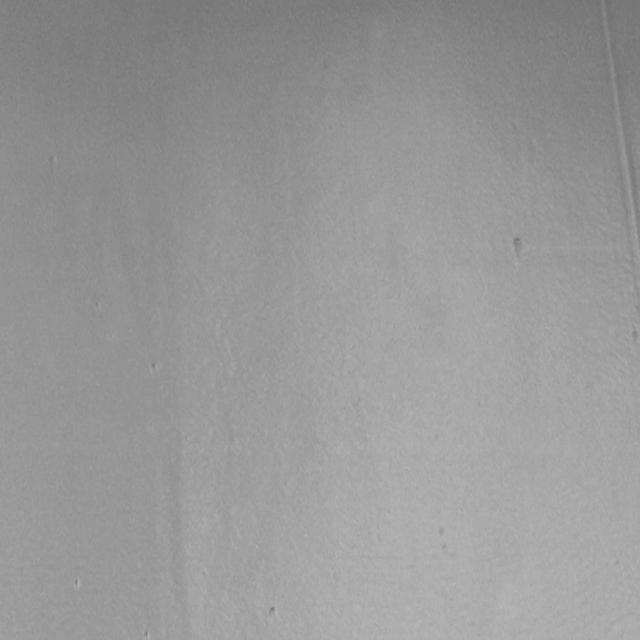pin holes: (508, 235, 531, 264), (48, 154, 59, 179), (267, 605, 280, 623), (148, 361, 162, 377), (71, 575, 83, 592), (631, 328, 640, 349), (140, 628, 153, 639)
